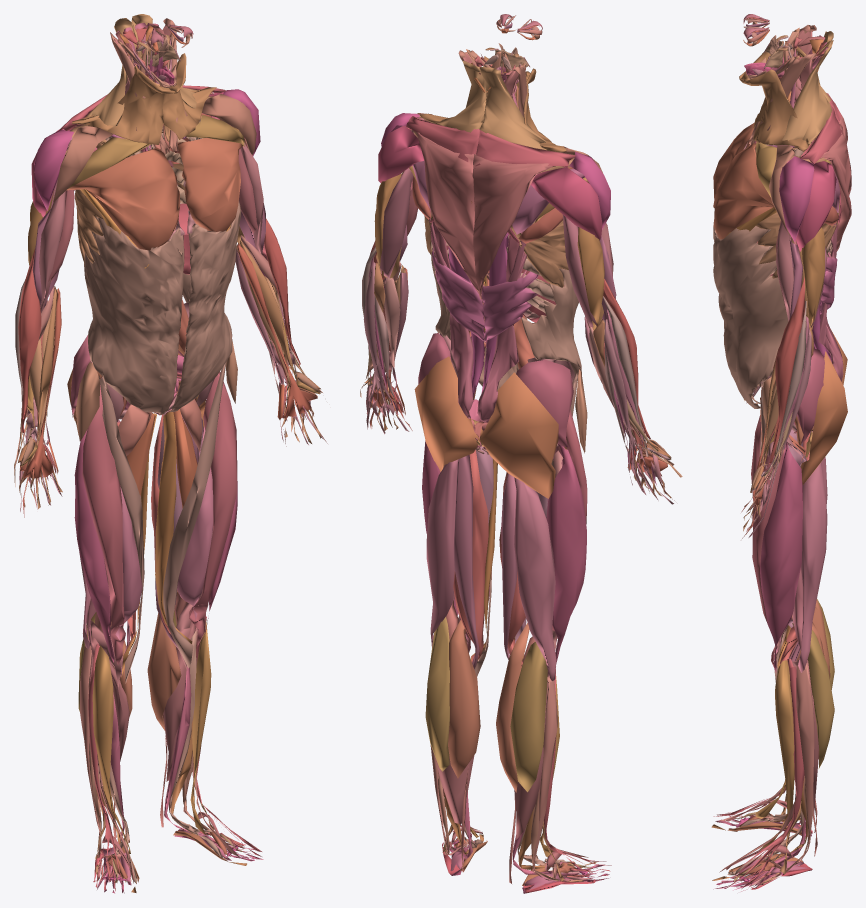
File: body-muscles.lod2.glb
3 renders of one model, left to right at view 1: azimuth 30°, elevation 25°; view 2: azimuth 150°, elevation 25°; view 3: azimuth 270°, elevation 25°, orthographic.
Visible parts, largest first — view 1: external-oblique-r, external-oblique-l, sternocostal-part-of-pectoralis-major-r, rectus-femoris-r, sternocostal-part-of-pectoralis-major-l, rectus-femoris-l, sartorius-l, vastus-lateralis-r, platysma-r, gracilis-l, sartorius-r, vastus-medialis-l (+42 smaller); view 2: gluteus-maximus-r, long-head-of-biceps-femoris-r, vastus-lateralis-r, ascending-part-of-trapezius-l, ascending-part-of-trapezius-r, gluteus-maximus-l, lateral-head-of-gastrocnemius-r, long-head-of-biceps-femoris-l, medial-head-of-gastrocnemius-l, external-oblique-r, semitendinosus-l, lateral-head-of-gastrocnemius-l (+42 smaller); view 3: external-oblique-l, vastus-lateralis-l, long-head-of-biceps-femoris-l, sternocostal-part-of-pectoralis-major-l, gluteus-maximus-l, platysma-l, descending-part-of-trapezius-l, tibialis-anterior-l, fibularis-longus-l, brachioradialis-l, acromial-part-of-deltoid-l, lateral-head-of-gastrocnemius-l (+33 smaller).
Boxes of the visible parts, x1,y1,x2,y2 form: external-oblique-r: (84,218,184,414); external-oblique-l: (168,200,241,411); sternocostal-part-of-pectoralis-major-r: (66,147,180,250); rectus-femoris-r: (82,385,125,665); sternocostal-part-of-pectoralis-major-l: (177,137,242,231); rectus-femoris-l: (189,372,237,645); sartorius-l: (163,361,226,668); vastus-lateralis-r: (74,429,114,662); platysma-r: (72,65,176,144); gracilis-l: (155,410,192,643); sartorius-r: (99,376,144,683); vastus-medialis-l: (177,426,213,630); gluteus-maximus-r: (480,372,558,498); long-head-of-biceps-femoris-r: (514,477,556,680); vastus-lateralis-r: (546,444,586,664); ascending-part-of-trapezius-l: (416,132,482,299); ascending-part-of-trapezius-r: (472,154,555,299); gluteus-maximus-l: (414,356,480,471); lateral-head-of-gastrocnemius-r: (510,642,547,792); long-head-of-biceps-femoris-l: (426,459,458,647); medial-head-of-gastrocnemius-l: (448,620,480,778); external-oblique-r: (521,268,581,379); semitendinosus-l: (453,454,479,668); lateral-head-of-gastrocnemius-l: (425,617,449,771); external-oblique-l: (713,226,806,408); vastus-lateralis-l: (760,442,802,672); long-head-of-biceps-femoris-l: (798,459,827,672); sternocostal-part-of-pectoralis-major-l: (713,143,774,239); gluteus-maximus-l: (800,351,847,484); platysma-l: (739,69,809,150); descending-part-of-trapezius-l: (782,40,833,143); tibialis-anterior-l: (759,660,794,849); fibularis-longus-l: (763,663,814,869); brachioradialis-l: (769,277,804,463); acromial-part-of-deltoid-l: (779,156,814,241); lateral-head-of-gastrocnemius-l: (792,623,834,768).
Bounding box in the file's own units: 0.6386 × 1.61 × 0.2459.
